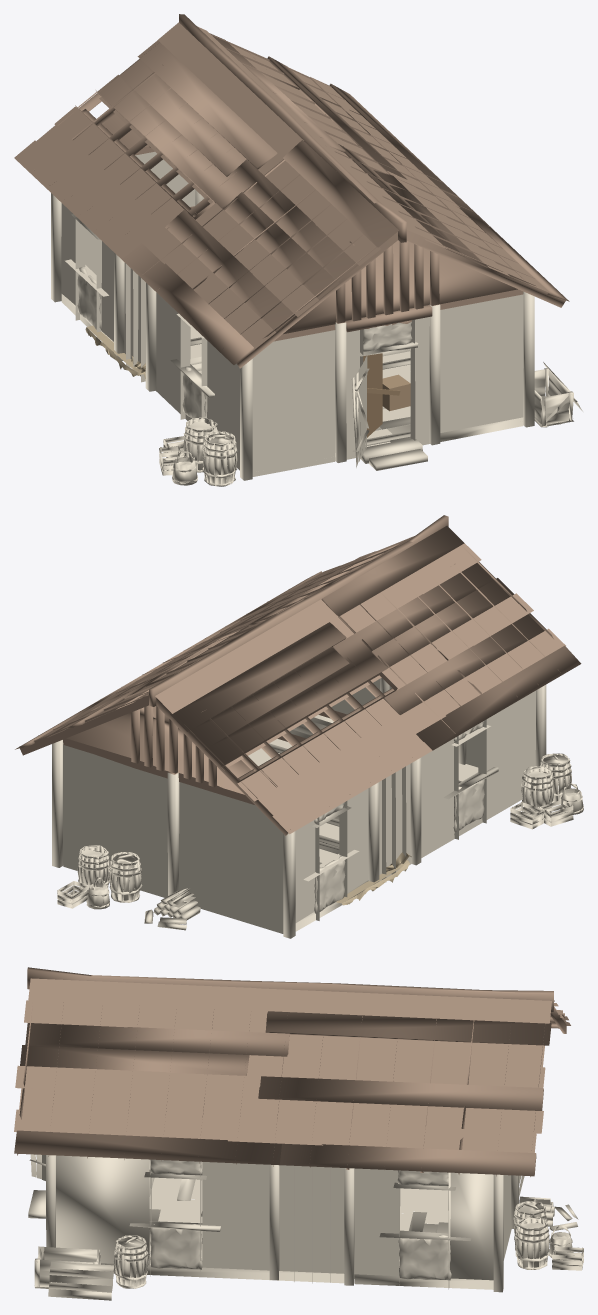
Rendered from village-home-broken.glb.
3 views of the same model, one above another, from view 1: azimuth 30°, elevation 25°; view 2: azimuth 150°, elevation 25°; view 3: azimuth 270°, elevation 25° (orthographic). The views are drawn at different scales.
Parts seen in each view (by area): view 1: 01.001, Door_Broken, Crate_Broken, takaro.002_Plane.003; view 2: 01.001, takaro.002_Plane.003; view 3: 01.001.
Boxes of the visible parts, x1=… form: 01.001: x1=14, y1=14, x2=582, y2=486; Door_Broken: x1=363, y1=353, x2=382, y2=439; Crate_Broken: x1=382, y1=374, x2=410, y2=411; takaro.002_Plane.003: x1=85, y1=325, x2=145, y2=378; 01.001: x1=15, y1=515, x2=583, y2=938; takaro.002_Plane.003: x1=336, y1=852, x2=411, y2=905; 01.001: x1=14, y1=967, x2=583, y2=1300.
Size of the model in its own units: 11.12 by 6.58 by 14.25.
